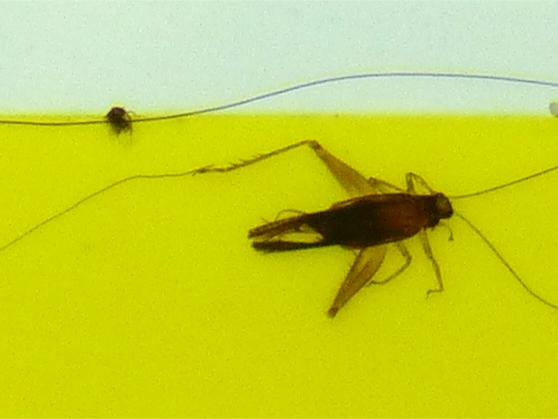Brachycera: (100, 100, 140, 140)
Orthoptera: (246, 134, 458, 319)
